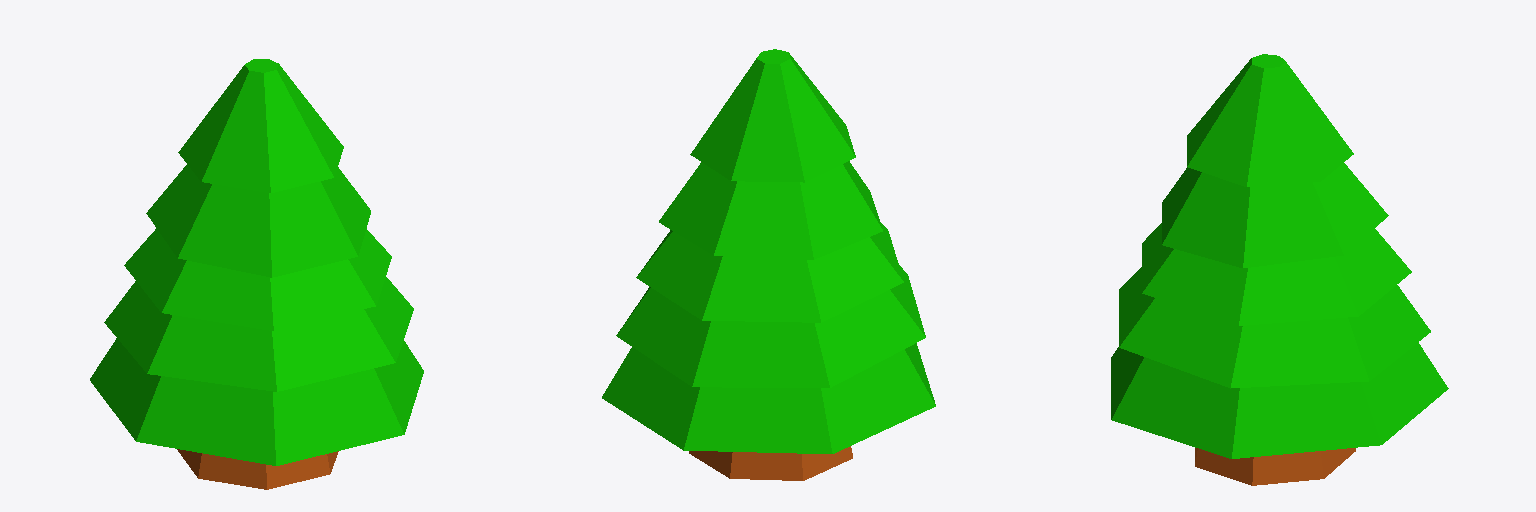
File: ctree2C(F68).obj
3 views of the same model, side by side, from view 1: azimuth 30°, elevation 25°; view 2: azimuth 150°, elevation 25°; view 3: azimuth 270°, elevation 25° (orthographic).
Parts seen in each view (by area): view 1: Cylinder.149, Cylinder.150, Cylinder.152, Cylinder.151, Cylinder.153, Cylinder.148; view 2: Cylinder.149, Cylinder.150, Cylinder.151, Cylinder.152, Cylinder.153, Cylinder.148; view 3: Cylinder.149, Cylinder.150, Cylinder.152, Cylinder.151, Cylinder.153, Cylinder.148.
Boxes of the visible parts, x1,y1,x2,y2 form: Cylinder.149: [90, 338, 423, 465]; Cylinder.150: [104, 277, 413, 391]; Cylinder.152: [146, 164, 370, 277]; Cylinder.151: [124, 228, 391, 330]; Cylinder.153: [178, 59, 343, 192]; Cylinder.148: [177, 449, 338, 489]; Cylinder.149: [602, 343, 935, 453]; Cylinder.150: [616, 265, 925, 387]; Cylinder.151: [636, 223, 903, 322]; Cylinder.152: [659, 161, 882, 259]; Cylinder.153: [690, 49, 855, 182]; Cylinder.148: [689, 446, 852, 480]; Cylinder.149: [1111, 342, 1448, 458]; Cylinder.150: [1119, 267, 1430, 388]; Cylinder.152: [1162, 163, 1388, 267]; Cylinder.151: [1142, 223, 1411, 325]; Cylinder.153: [1187, 54, 1353, 186]; Cylinder.148: [1195, 448, 1355, 485].
Bounding box in the file's own units: 1.16 × 1.5 × 1.18.